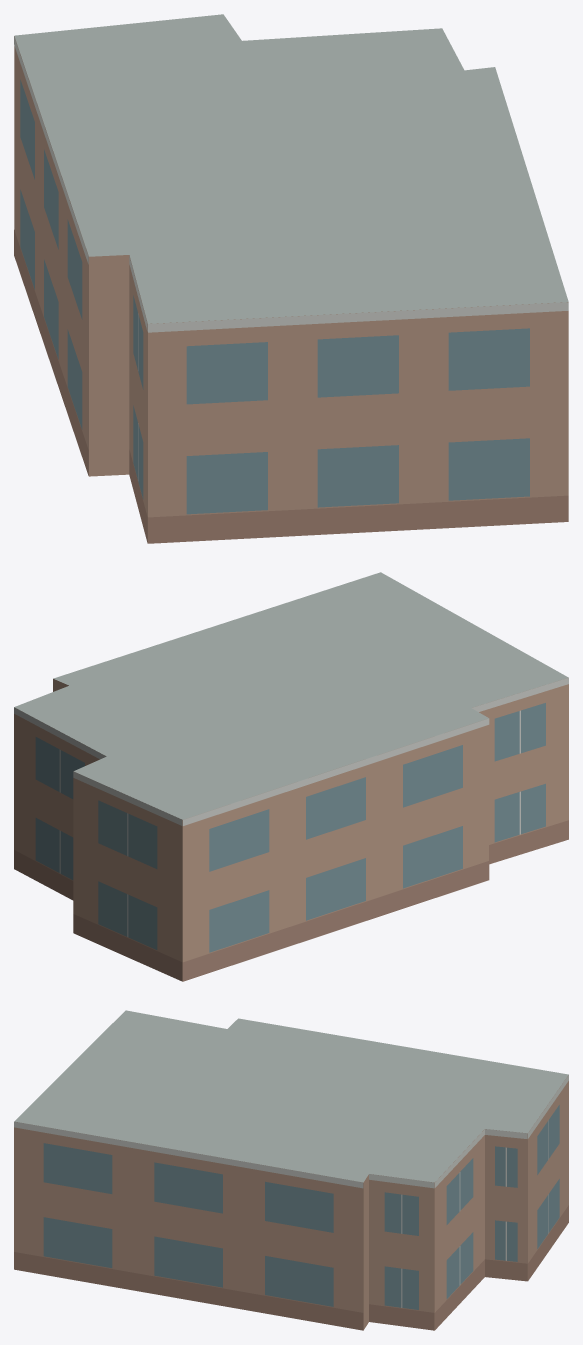
The model's file is survey-upis-33003742.glb.
The picture shows the model from 3 angles, top to bottom: view 1: azimuth 30°, elevation 25°; view 2: azimuth 150°, elevation 25°; view 3: azimuth 270°, elevation 25°; orthographic projection. The views are drawn at different scales.
Visible parts, largest first — view 1: survey-upis-33003742.tmp; view 2: survey-upis-33003742.tmp; view 3: survey-upis-33003742.tmp.
Boxes of the visible parts, x1=… form: survey-upis-33003742.tmp: x1=14, y1=14, x2=568, y2=543; survey-upis-33003742.tmp: x1=14, y1=572, x2=568, y2=981; survey-upis-33003742.tmp: x1=14, y1=1010, x2=568, y2=1330.
Bounding box in the file's own units: 15.22 × 6.1 × 20.72.
